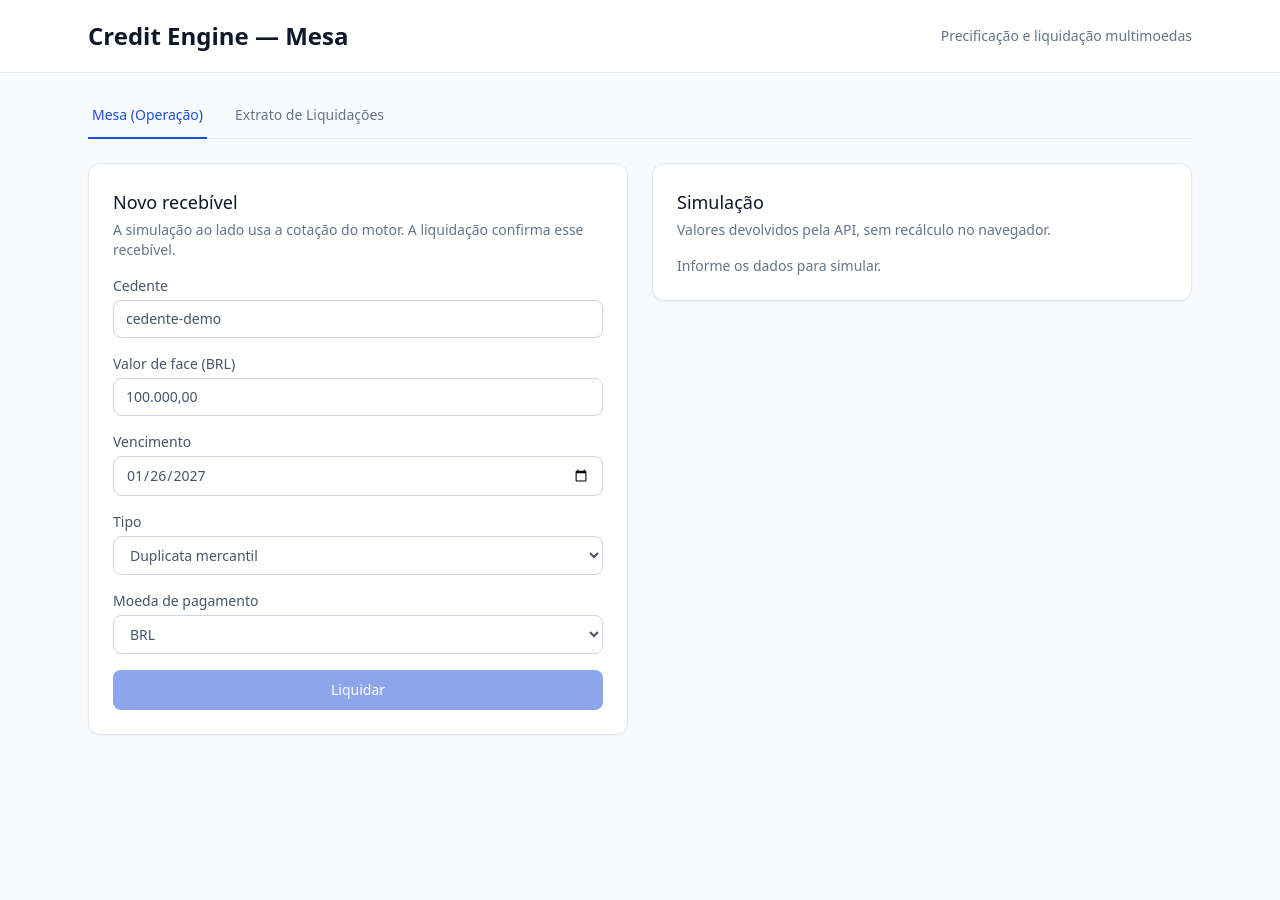
Test case: renders the report columns with formatted money and date
The image size is (1280, 900).
Click the tab "Extrato de Liquidações" at (310, 122), box top-left (231, 105), bottom-right (388, 139)
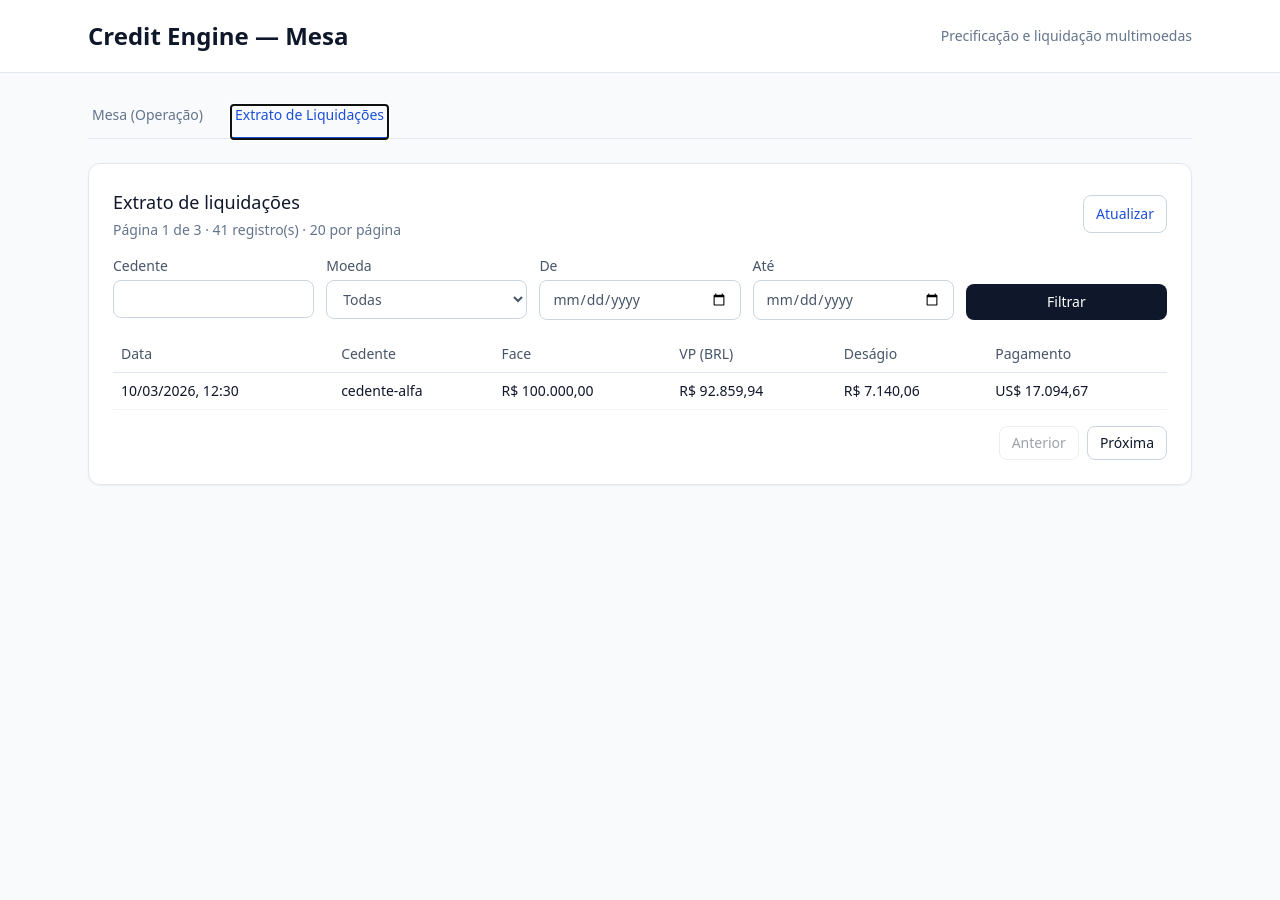
Expected: the column heading "Data" is shown, top-left (113, 336), bottom-right (333, 372)
Expected: the column heading "Cedente" is shown, top-left (333, 336), bottom-right (494, 372)
Expected: the column heading "VP (BRL)" is shown, top-left (671, 336), bottom-right (836, 372)
